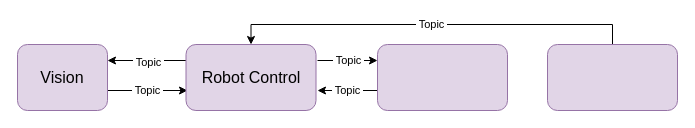
Some shapes in this 695 by 128 pixel diagram are drawn without their labels. The centre of each missing label's shape, as x and y in pixels:
"Ultrasonic" goes at pixel 612 77.
"Voice" goes at pixel 442 77.
